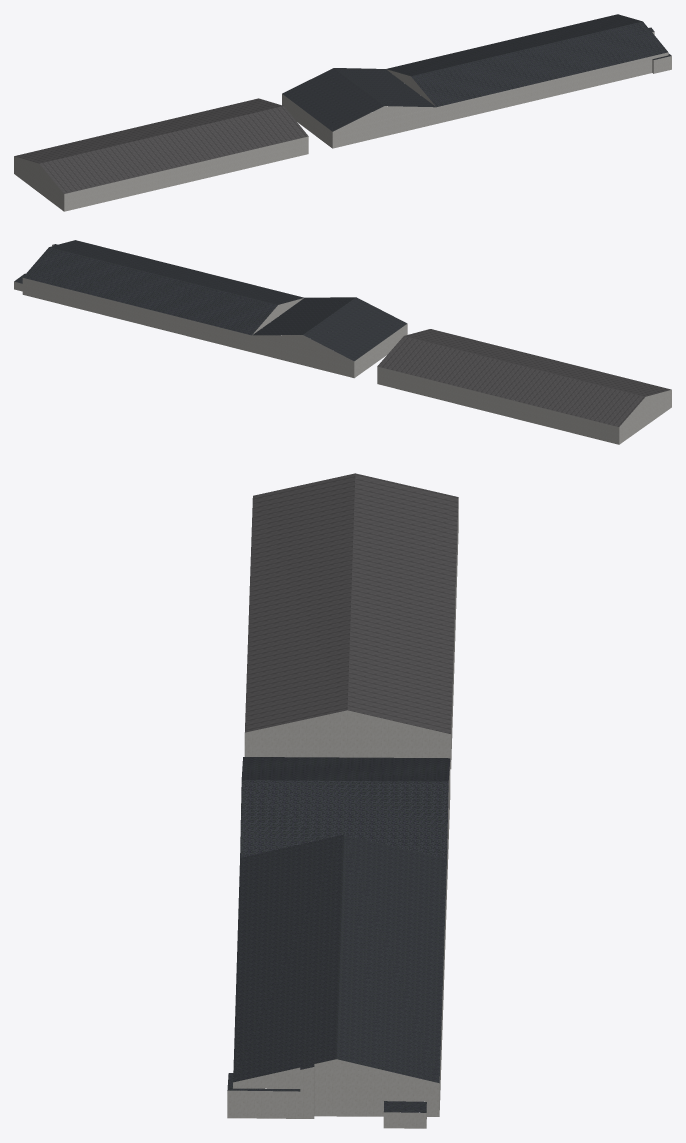
3 renders of one model, top to bottom at view 1: azimuth 30°, elevation 25°; view 2: azimuth 150°, elevation 25°; view 3: azimuth 270°, elevation 25°, orthographic. The views are drawn at different scales.
Parts seen in each view (by area): view 1: bldg_6004170211_roof, bldg_6004170204_roof, bldg_6004170211, bldg_6004170204; view 2: bldg_6004170211_roof, bldg_6004170204_roof, bldg_6004170211, bldg_6004170204; view 3: bldg_6004170211_roof, bldg_6004170204_roof, bldg_6004170211, bldg_6004170204.
Boxes of the visible parts, x1,y1,x2,y2 form: bldg_6004170211_roof: [282, 14, 671, 131]; bldg_6004170204_roof: [14, 98, 308, 193]; bldg_6004170211: [282, 31, 671, 148]; bldg_6004170204: [14, 136, 308, 211]; bldg_6004170211_roof: [14, 240, 407, 361]; bldg_6004170204_roof: [377, 329, 671, 426]; bldg_6004170211: [14, 245, 407, 378]; bldg_6004170204: [377, 366, 671, 444]; bldg_6004170211_roof: [227, 757, 450, 1112]; bldg_6004170204_roof: [245, 473, 458, 733]; bldg_6004170211: [227, 757, 450, 1128]; bldg_6004170204: [244, 498, 458, 769].
Size of the model in its own units: 310 by 14.69 by 50.75.
Materials: 3 (3 with a texture image).
